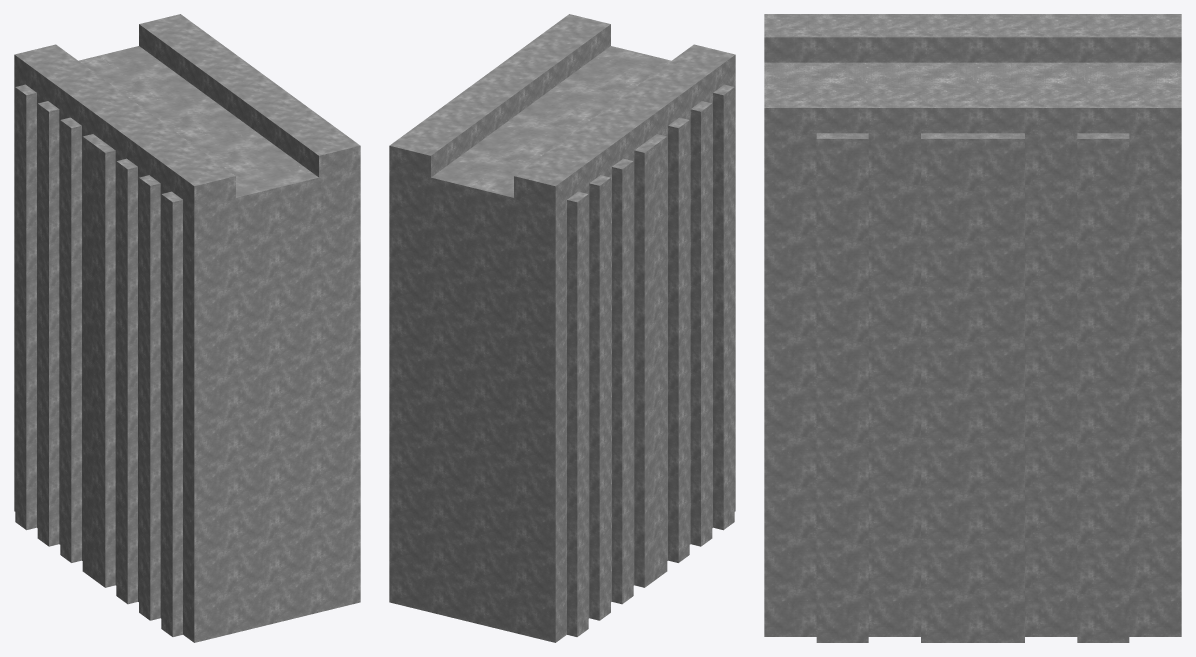
File: QuarantineWall.obj
3 renders of one model, left to right at view 1: azimuth 30°, elevation 25°; view 2: azimuth 150°, elevation 25°; view 3: azimuth 270°, elevation 25°, orthographic. The views are drawn at different scales.
Parts seen in each view (by area): view 1: QuarantineWall; view 2: QuarantineWall; view 3: QuarantineWall.
Boxes of the visible parts, box(x1,y1,x2,y2) form: QuarantineWall: box(14, 14, 360, 642); QuarantineWall: box(389, 14, 735, 642); QuarantineWall: box(764, 14, 1181, 642).
Bounding box in the file's own units: 4.5 × 10.5 × 7.5.
